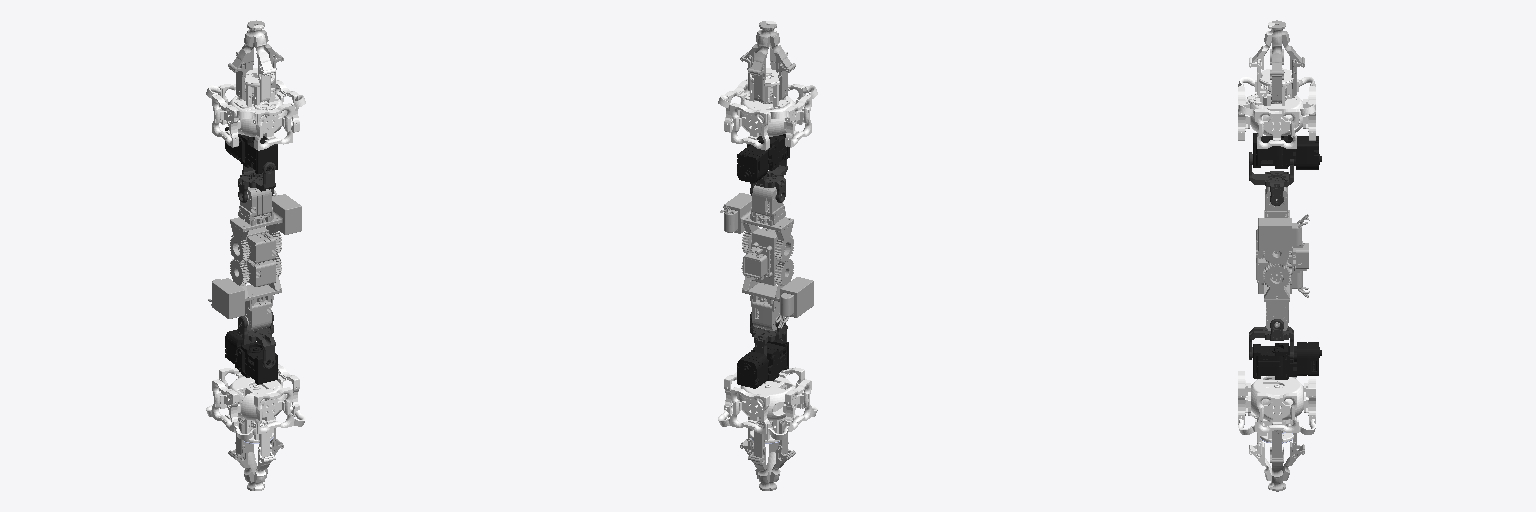
--- Render facts (derived) ---
3 views of the same robot in one strip: view 1: azimuth 30°, elevation 25°; view 2: azimuth 150°, elevation 25°; view 3: azimuth 270°, elevation 25° (orthographic).
Robot: griphis_xacro_stl — 31 links, 30 joints (18 continuous, 12 fixed); root link gripper-cp1; default pose: every joint at zero.
Visible links, largest first — view 1: mid_pitch_1_link, mid_pitch_2_link, roll_2_link, yaw_2_link, base_link, roll_1_link, nailring1-cp3, nailring2-cp3, yaw_1_link, pitch_2_link, nailring1-cp4, nailring2-cp2 (+5 smaller); view 2: mid_pitch_1_link, mid_pitch_2_link, yaw_2_link, yaw_1_link, roll_2_link, base_link, roll_1_link, nailring2-cp1, nailring1-cp1, nailring2-cp2, nailring1-cp4, nail3_1_link (+5 smaller); view 3: mid_pitch_1_link, yaw_2_link, mid_pitch_2_link, yaw_1_link, roll_2_link, roll_1_link, nailring2-cp4, nailring1-cp2, pitch_1_link, base_link, nail4_1_link, pitch_2_link (+3 smaller).
Boxes of the visible links, x1,y1,x2,y2 form: mid_pitch_1_link: (230, 187, 301, 262); mid_pitch_2_link: (208, 253, 281, 330); roll_2_link: (206, 377, 305, 439); yaw_2_link: (225, 329, 277, 384); base_link: (231, 227, 275, 286); roll_1_link: (206, 80, 305, 136); nailring1-cp3: (254, 103, 292, 150); nailring2-cp3: (254, 387, 292, 434); yaw_1_link: (225, 127, 277, 173); pitch_2_link: (238, 312, 275, 368); nailring1-cp4: (212, 95, 240, 147); nailring2-cp2: (212, 379, 239, 431); mid_pitch_1_link: (720, 185, 793, 262); mid_pitch_2_link: (741, 253, 813, 330); yaw_2_link: (737, 340, 788, 388); yaw_1_link: (737, 134, 789, 182); roll_2_link: (718, 376, 817, 439); base_link: (743, 228, 778, 285); roll_1_link: (718, 77, 817, 136); nailring2-cp1: (731, 387, 769, 434); nailring1-cp1: (731, 103, 769, 150); nailring2-cp2: (783, 379, 811, 431); nailring1-cp4: (784, 95, 811, 147); nail3_1_link: (748, 25, 769, 102); mid_pitch_1_link: (1258, 187, 1309, 265); yaw_2_link: (1253, 342, 1321, 379); mid_pitch_2_link: (1258, 263, 1309, 330); yaw_1_link: (1253, 133, 1321, 169); roll_2_link: (1238, 376, 1315, 434); roll_1_link: (1238, 77, 1315, 135); nailring2-cp4: (1257, 393, 1296, 432); nailring1-cp2: (1257, 109, 1296, 148); pitch_1_link: (1249, 152, 1293, 205); base_link: (1256, 229, 1308, 282); nail4_1_link: (1270, 25, 1283, 101); pitch_2_link: (1249, 319, 1293, 359).
Bounding box of the posed robot: 0.096 × 0.0954 × 0.5796 m (x, y, z).
31 mesh visuals loaded from 31 distinct referenced files (31 binary STL).

URDF robot description (griphis_xacro_stl):
<?xml version="1.0" ?>
<robot name="griphis_xacro_stl">
  <link name="base_link">
    <inertial>
      <origin xyz="-0.00010264257406678 3.31727350517397E-05 -0.00495518296571391" rpy="0 0 0"/>
      <mass value="0.0797462541060097"/>
      <inertia ixx="8.57012114371153E-06" ixy="1.08293491537705E-08" ixz="-5.94275788505759E-09" iyy="1.05158543807875E-05" iyz="1.10583333432373E-08" izz="1.08869595154247E-05"/>
    </inertial>
    <visual>
      <origin xyz="-0.0148999999999995 0.0176000000000318 0.0109999999999849" rpy="0.0 -0.0 0.0"/>
      <geometry>
        <mesh filename="package://griphis_xacro_stl/meshes/base_link.STL"/>
      </geometry>
      <material name="">
        <color rgba="0.752941176470588 0.752941176470588 0.752941176470588 1"/>
      </material>
    </visual>
    <collision>
      <origin xyz="-0.0148999999999995 0.0176000000000318 0.0109999999999849" rpy="0.0 -0.0 0.0"/>
      <geometry>
        <mesh filename="package://griphis_xacro_stl/meshes/base_link.STL"/>
      </geometry>
    </collision>
  </link>
  <link name="mid_pitch_1_link">
    <inertial>
      <origin xyz="0.0327517154872403 0.0322634011493343 0.000309410745622088" rpy="0 0 0"/>
      <mass value="0.0769353285466722"/>
      <inertia ixx="1.72122749770761E-05" ixy="1.01496940835006E-08" ixz="-9.64331189423188E-08" iyy="1.36641198773196E-05" iyz="5.60814889063421E-07" izz="1.63211688368785E-05"/>
    </inertial>
    <visual>
      <origin xyz="-0.0640000000000069 -0.0350999999999983 -0.0" rpy="0.0 -0.0 0.0"/>
      <geometry>
        <mesh filename="package://griphis_xacro_stl/meshes/mid_pitch_1_link.STL"/>
      </geometry>
      <material name="">
        <color rgba="0.752941176470588 0.752941176470588 0.752941176470588 1"/>
      </material>
    </visual>
    <collision>
      <origin xyz="-0.0640000000000069 -0.0350999999999983 -0.0" rpy="0.0 -0.0 0.0"/>
      <geometry>
        <mesh filename="package://griphis_xacro_stl/meshes/mid_pitch_1_link.STL"/>
      </geometry>
    </collision>
  </link>
  <joint name="mid_pitch_1" type="continuous">
    <origin xyz="-0.0640000000000069 -0.0350999999999983 -0.0" rpy="0.0 -0.0 0.0"/>
    <parent link="mid_pitch_1_link"/>
    <child link="base_link"/>
    <axis xyz="-0.0 -1.0 -0.0"/>
    <limit effort="3" velocity="10"/>
  </joint>
  <link name="pitch_1_link">
    <inertial>
      <origin xyz="0.0191893034316777 -0.017231596070573 -0.00342856576321433" rpy="0 0 0"/>
      <mass value="0.0105178263834885"/>
      <inertia ixx="5.84801171286377E-07" ixy="3.57321505354626E-09" ixz="8.8152444778668E-08" iyy="1.04603360596441E-06" iyz="-1.51990885783075E-13" izz="9.82964870358909E-07"/>
    </inertial>
    <visual>
      <origin xyz="-0.0420000000000015 0.0175000000000007 -0.0174999999999981" rpy="0.0 -0.0 0.0"/>
      <geometry>
        <mesh filename="package://griphis_xacro_stl/meshes/pitch_1_link.STL"/>
      </geometry>
      <material name="">
        <color rgba="0.298039215686275 0.298039215686275 0.298039215686275 1"/>
      </material>
    </visual>
    <collision>
      <origin xyz="-0.0420000000000015 0.0175000000000007 -0.0174999999999981" rpy="0.0 -0.0 0.0"/>
      <geometry>
        <mesh filename="package://griphis_xacro_stl/meshes/pitch_1_link.STL"/>
      </geometry>
    </collision>
  </link>
  <joint name="pitch_1" type="continuous">
    <origin xyz="-0.0420000000000015 0.0175000000000007 -0.0174999999999981" rpy="0.0 -0.0 0.0"/>
    <parent link="pitch_1_link"/>
    <child link="mid_pitch_1_link"/>
    <axis xyz="-0.0 -1.0 -0.0"/>
    <limit effort="3" velocity="10"/>
  </joint>
  <link name="yaw_1_link">
    <inertial>
      <origin xyz="0.00934924439107056 -1.17000596711048E-10 -0.0065657034112081" rpy="0 0 0"/>
      <mass value="0.0544535701857151"/>
      <inertia ixx="6.16082295678474E-06" ixy="-1.48642619322733E-08" ixz="3.66332313625793E-08" iyy="7.36782974228272E-06" iyz="-1.48634431569832E-08" izz="7.24406343523596E-06"/>
    </inertial>
    <visual>
      <origin xyz="-0.0279999999999981 -0.0 0.0175000000000002" rpy="0.0 -0.0 0.0"/>
      <geometry>
        <mesh filename="package://griphis_xacro_stl/meshes/yaw_1_link.STL"/>
      </geometry>
      <material name="">
        <color rgba="0.180392156862745 0.180392156862745 0.180392156862745 1"/>
      </material>
    </visual>
    <collision>
      <origin xyz="-0.0279999999999981 -0.0 0.0175000000000002" rpy="0.0 -0.0 0.0"/>
      <geometry>
        <mesh filename="package://griphis_xacro_stl/meshes/yaw_1_link.STL"/>
      </geometry>
    </collision>
  </link>
  <joint name="yaw_1" type="continuous">
    <origin xyz="-0.0279999999999981 -0.0 0.0175000000000002" rpy="0.0 -0.0 0.0"/>
    <parent link="yaw_1_link"/>
    <child link="pitch_1_link"/>
    <axis xyz="-0.0 -0.0 1.0"/>
    <limit effort="3" velocity="10"/>
  </joint>
  <link name="roll_1_link">
    <inertial>
      <origin xyz="0.0304847934275313 -0.000533683595524997 -0.000138763582684304" rpy="0 0 0"/>
      <mass value="0.0617238803473503"/>
      <inertia ixx="1.72112591146286E-05" ixy="-2.34655399562005E-07" ixz="1.72186999812855E-07" iyy="1.09105230206178E-05" iyz="3.90599560040266E-08" izz="1.62402505711448E-05"/>
    </inertial>
    <visual>
      <origin xyz="-0.00031819805152675406 0.000318198051528346 -0.0766999999999999" rpy="0.0 -1.5707963267948966 -1.5707963267948966"/>
      <geometry>
        <mesh filename="package://griphis_xacro_stl/meshes/roll_1_link.STL"/>
      </geometry>
      <material name="">
        <color rgba="1 1 1 1"/>
      </material>
    </visual>
    <collision>
      <origin xyz="-0.00031819805152675406 0.000318198051528346 -0.0766999999999999" rpy="0.0 -1.5707963267948966 -1.5707963267948966"/>
      <geometry>
        <mesh filename="package://griphis_xacro_stl/meshes/roll_1_link.STL"/>
      </geometry>
    </collision>
  </link>
  <joint name="roll_1" type="continuous">
    <origin xyz="-0.00031819805152675406 0.000318198051528346 -0.0766999999999999" rpy="0.0 -1.5707963267948966 -1.5707963267948966"/>
    <parent link="roll_1_link"/>
    <child link="yaw_1_link"/>
    <axis xyz="1.0 -0.0 -0.0"/>
    <limit effort="3" velocity="10"/>
  </joint>
  <link name="worm_1_link">
    <inertial>
      <origin xyz="0.00680389923417661 1.29536242400655E-05 5.52986221441856E-05" rpy="0 0 0"/>
      <mass value="0.00387257618784269"/>
      <inertia ixx="2.06264558567859E-07" ixy="1.13917098659222E-09" ixz="-8.28881114232565E-10" iyy="1.7113732321225E-07" iyz="4.18404893657738E-11" izz="1.71297030362022E-07"/>
    </inertial>
    <visual>
      <origin xyz="0 0 0" rpy="0 0 0"/>
      <geometry>
        <mesh filename="package://griphis_xacro_stl/meshes/worm_1_link.STL"/>
      </geometry>
      <material name="">
        <color rgba="0.752941176470588 0.752941176470588 0.752941176470588 1"/>
      </material>
    </visual>
    <collision>
      <origin xyz="0 0 0" rpy="0 0 0"/>
      <geometry>
        <mesh filename="package://griphis_xacro_stl/meshes/worm_1_link.STL"/>
      </geometry>
    </collision>
  </link>
  <joint name="worm_rotate_1" type="continuous">
    <origin xyz="-0.00031819805152675406 0.00031819805152833553 -0.02969999999999999" rpy="-1.5707963267948963 -1.5707963267948966 0.0"/>
    <parent link="roll_1_link"/>
    <child link="worm_1_link"/>
    <axis xyz="1 0 0"/>
    <limit effort="15" velocity="10"/>
  </joint>
  <link name="nail1_1_link">
    <inertial>
      <origin xyz="0.0375115559402243 -4.52381021421033E-05 0.000927613439051046" rpy="0 0 0"/>
      <mass value="0.00785451508753953"/>
      <inertia ixx="3.26792929870295E-07" ixy="2.23311778369799E-10" ixz="3.04391588566406E-07" iyy="1.76174668735888E-06" iyz="-8.7203716693621E-12" izz="1.60467609944965E-06"/>
    </inertial>
    <visual>
      <origin xyz="0 0 0" rpy="0 0 0"/>
      <geometry>
        <mesh filename="package://griphis_xacro_stl/meshes/nail1_1_link.STL"/>
      </geometry>
      <material name="">
        <color rgba="1 1 1 1"/>
      </material>
    </visual>
    <collision>
      <origin xyz="0 0 0" rpy="0 0 0"/>
      <geometry>
        <mesh filename="package://griphis_xacro_stl/meshes/nail1_1_link.STL"/>
      </geometry>
    </collision>
  </link>
  <joint name="nail1_rotate_1" type="continuous">
    <origin xyz="-0.00031819805152675075 -0.014681801948467067 -0.019699999999999995" rpy="1.5707963267948433 -1.5707963267948966 0.0"/>
    <parent link="roll_1_link"/>
    <child link="nail1_1_link"/>
    <axis xyz="0 -1 0"/>
    <mimic joint="worm_rotate_1" multiplier="0.091" offset="0"/>
  </joint>
  <link name="nail2_1_link">
    <inertial>
      <origin xyz="0.0375922338704431 -0.000920668174592305 -5.01249966510589E-05" rpy="0 0 0"/>
      <mass value="0.00783920613274618"/>
      <inertia ixx="3.26764420600123E-07" ixy="-3.04083796030301E-07" ixz="3.01596352148099E-10" iyy="1.60307023285989E-06" iyz="-3.50228545349602E-11" izz="1.7600802033745E-06"/>
    </inertial>
    <visual>
      <origin xyz="0 0 0" rpy="0 0 0"/>
      <geometry>
        <mesh filename="package://griphis_xacro_stl/meshes/nail2_1_link.STL"/>
      </geometry>
      <material name="">
        <color rgba="0.752941176470588 0.752941176470588 0.752941176470588 1"/>
      </material>
    </visual>
    <collision>
      <origin xyz="0 0 0" rpy="0 0 0"/>
      <geometry>
        <mesh filename="package://griphis_xacro_stl/meshes/nail2_1_link.STL"/>
      </geometry>
    </collision>
  </link>
  <joint name="nail2_rotate_1" type="continuous">
    <origin xyz="-0.015318198051535455 0.00031819805152833 -0.019699999999999995" rpy="-1.5707963267948963 -1.5707963267948966 0.0"/>
    <parent link="roll_1_link"/>
    <child link="nail2_1_link"/>
    <axis xyz="0 0 -1"/>
    <mimic joint="worm_rotate_1" multiplier="0.091" offset="0"/>
  </joint>
  <link name="nail3_1_link">
    <inertial>
      <origin xyz="0.0376633576375596 -4.50239708446043E-05 0.000912382199221681" rpy="0 0 0"/>
      <mass value="0.00782164323980883"/>
      <inertia ixx="3.26387568167113E-07" ixy="1.94469452026803E-10" ixz="3.03929104031752E-07" iyy="1.75640452707706E-06" iyz="-1.77166863072923E-11" izz="1.59916689354216E-06"/>
    </inertial>
    <visual>
      <origin xyz="0 0 0" rpy="0 0 0"/>
      <geometry>
        <mesh filename="package://griphis_xacro_stl/meshes/nail3_1_link.STL"/>
      </geometry>
      <material name="">
        <color rgba="0.752941176470588 0.752941176470588 0.752941176470588 1"/>
      </material>
    </visual>
    <collision>
      <origin xyz="0 0 0" rpy="0 0 0"/>
      <geometry>
        <mesh filename="package://griphis_xacro_stl/meshes/nail3_1_link.STL"/>
      </geometry>
    </collision>
  </link>
  <joint name="nail3_rotate_1" type="continuous">
    <origin xyz="-0.00031819805152675737 0.015318198051532934 -0.019700000000000092" rpy="-1.5707963267948963 -1.5707963267948966 0.0"/>
    <parent link="roll_1_link"/>
    <child link="nail3_1_link"/>
    <axis xyz="0 -1 0"/>
    <mimic joint="worm_rotate_1" multiplier="0.091" offset="0"/>
  </joint>
  <link name="nail4_1_link">
    <inertial>
      <origin xyz="0.0376199045292883 0.000916237603659741 4.27065705779009E-05" rpy="0 0 0"/>
      <mass value="0.00783130292561273"/>
      <inertia ixx="3.26490723468266E-07" ixy="3.0398859313737E-07" ixz="-4.37077734142467E-10" iyy="1.60061195688429E-06" iyz="2.94387193060157E-11" izz="1.75778452318195E-06"/>
    </inertial>
    <visual>
      <origin xyz="0 0 0" rpy="0 0 0"/>
      <geometry>
        <mesh filename="package://griphis_xacro_stl/meshes/nail4_1_link.STL"/>
      </geometry>
      <material name="">
        <color rgba="0.752941176470588 0.752941176470588 0.752941176470588 1"/>
      </material>
    </visual>
    <collision>
      <origin xyz="0 0 0" rpy="0 0 0"/>
      <geometry>
        <mesh filename="package://griphis_xacro_stl/meshes/nail4_1_link.STL"/>
      </geometry>
    </collision>
  </link>
  <joint name="nail4_rotate_1" type="continuous">
    <origin xyz="0.014681801948464546 0.00031819805152833667 -0.019699999999999995" rpy="-1.5707963267948963 -1.5707963267948966 0.0"/>
    <parent link="roll_1_link"/>
    <child link="nail4_1_link"/>
    <axis xyz="0 0 1"/>
    <mimic joint="worm_rotate_1" multiplier="0.091" offset="0"/>
  </joint>
  <link name="nail-cp1">
    <inertial>
      <origin xyz="-2.058274506931E-05 -0.000405813357968389 -0.0658092329631552" rpy="0 0 0"/>
      <mass value="0.0011585387013778"/>
      <inertia ixx="1.05682260080874E-07" ixy="-1.5764583148915E-09" ixz="-7.53303890952621E-11" iyy="1.05682260080874E-07" iyz="7.53303890952626E-11" izz="2.1081276337663E-07"/>
    </inertial>
    <visual>
      <origin xyz="0 0 0" rpy="0 0 0"/>
      <geometry>
        <mesh filename="package://griphis_xacro_stl/meshes/nail-cp1.STL"/>
      </geometry>
      <material name="">
        <color rgba="1 1 1 1"/>
      </material>
    </visual>
    <collision>
      <origin xyz="0 0 0" rpy="0 0 0"/>
      <geometry>
        <mesh filename="package://griphis_xacro_stl/meshes/nail-cp1.STL"/>
      </geometry>
    </collision>
  </link>
  <joint name="nail-cp1" type="fixed">
    <origin xyz="-0.000636396103034807 0.00020999999999474846 0.0650000000000001" rpy="6.4948046940571666e-15 3.774758283725532e-15 -3.141592653589793"/>
    <parent link="roll_1_link"/>
    <child link="nail-cp1"/>
    <axis xyz="0 0 0"/>
  </joint>
  <link name="gripper-cp1">
    <inertial>
      <origin xyz="-0.000249014516100668 -0.00102239026541428 -0.0133818116212472" rpy="0 0 0"/>
      <mass value="0.0105278029927928"/>
      <inertia ixx="2.49426973639437E-06" ixy="-4.53009756265879E-08" ixz="6.75736959711176E-08" iyy="2.70040122944883E-06" iyz="-2.88247256637324E-07" izz="2.67368335360225E-06"/>
    </inertial>
    <visual>
      <origin xyz="0 0 0" rpy="0 0 0"/>
      <geometry>
        <mesh filename="package://griphis_xacro_stl/meshes/gripper-cp1.STL"/>
      </geometry>
      <material name="">
        <color rgba="1 1 1 1"/>
      </material>
    </visual>
    <collision>
      <origin xyz="0 0 0" rpy="0 0 0"/>
      <geometry>
        <mesh filename="package://griphis_xacro_stl/meshes/gripper-cp1.STL"/>
      </geometry>
    </collision>
  </link>
  <joint name="gripper-cp1" type="fixed">
    <origin xyz="0 0 0" rpy="0 0 0"/>
    <parent link="gripper-cp1"/>
    <child link="roll_1_link"/>
    <axis xyz="-0.0 -0.0 -0.0"/>
  </joint>
  <link name="nailring1-cp1">
    <inertial>
      <origin xyz="0.000495209639942942 -2.15213012098869E-07 -0.00500225533856013" rpy="0 0 0"/>
      <mass value="0.00888435164177016"/>
      <inertia ixx="1.85848970375133E-06" ixy="4.08320407087235E-11" ixz="9.14133574374128E-10" iyy="1.88948158451332E-06" iyz="-1.8157617423749E-12" izz="3.47494887160992E-06"/>
    </inertial>
    <visual>
      <origin xyz="0 0 0" rpy="0 0 0"/>
      <geometry>
        <mesh filename="package://griphis_xacro_stl/meshes/nailring1-cp1.STL"/>
      </geometry>
      <material name="">
        <color rgba="1 1 1 1"/>
      </material>
    </visual>
    <collision>
      <origin xyz="0 0 0" rpy="0 0 0"/>
      <geometry>
        <mesh filename="package://griphis_xacro_stl/meshes/nailring1-cp1.STL"/>
      </geometry>
    </collision>
  </link>
  <joint name="nailring1-cp1" type="fixed">
    <origin xyz="-0.0003181980515267614 0.033318198051532834 -0.048100053496672186" rpy="1.5707963267948433 -1.5707963267948966 0.0"/>
    <parent link="roll_1_link"/>
    <child link="nailring1-cp1"/>
    <axis xyz="0 0 0"/>
  </joint>
  <link name="nailring1-cp2">
    <inertial>
      <origin xyz="0.000495209639943192 -2.15213011856008E-07 -0.00500225533855998" rpy="0 0 0"/>
      <mass value="0.00888435164177017"/>
      <inertia ixx="1.85848970375133E-06" ixy="4.08320407083519E-11" ixz="9.1413357437371E-10" iyy="1.88948158451332E-06" iyz="-1.81576174254404E-12" izz="3.47494887160992E-06"/>
    </inertial>
    <visual>
      <origin xyz="0 0 0" rpy="0 0 0"/>
      <geometry>
        <mesh filename="package://griphis_xacro_stl/meshes/nailring1-cp2.STL"/>
      </geometry>
      <material name="">
        <color rgba="1 1 1 1"/>
      </material>
    </visual>
    <collision>
      <origin xyz="0 0 0" rpy="0 0 0"/>
      <geometry>
        <mesh filename="package://griphis_xacro_stl/meshes/nailring1-cp2.STL"/>
      </geometry>
    </collision>
  </link>
  <joint name="nailring1-cp2" type="fixed">
    <origin xyz="0.03268180194846475 0.00031819805152834697 -0.048100053496672394" rpy="-5.645484080218921e-14 -1.5707963057214722 0.0"/>
    <parent link="roll_1_link"/>
    <child link="nailring1-cp2"/>
    <axis xyz="0 0 0"/>
  </joint>
  <link name="nailring1-cp3">
    <inertial>
      <origin xyz="-0.000495209639943185 2.1521301184213E-07 -0.00500225533856018" rpy="0 0 0"/>
      <mass value="0.00888435164177015"/>
      <inertia ixx="1.85848970375133E-06" ixy="4.08320407089207E-11" ixz="-9.14133574373382E-10" iyy="1.88948158451332E-06" iyz="1.81576174213503E-12" izz="3.47494887160991E-06"/>
    </inertial>
    <visual>
      <origin xyz="0 0 0" rpy="0 0 0"/>
      <geometry>
        <mesh filename="package://griphis_xacro_stl/meshes/nailring1-cp3.STL"/>
      </geometry>
      <material name="">
        <color rgba="1 1 1 1"/>
      </material>
    </visual>
    <collision>
      <origin xyz="0 0 0" rpy="0 0 0"/>
      <geometry>
        <mesh filename="package://griphis_xacro_stl/meshes/nailring1-cp3.STL"/>
      </geometry>
    </collision>
  </link>
  <joint name="nailring1-cp3" type="fixed">
    <origin xyz="-0.00031819805152674674 -0.03268180194846797 -0.0482999465033276" rpy="-1.5707963267948963 -1.5707963267948966 0.0"/>
    <parent link="roll_1_link"/>
    <child link="nailring1-cp3"/>
    <axis xyz="0 0 0"/>
  </joint>
  <link name="nailring1-cp4">
    <inertial>
      <origin xyz="-0.000495209639943033 2.15213012022542E-07 -0.00500225533856014" rpy="0 0 0"/>
      <mass value="0.00888435164177017"/>
      <inertia ixx="1.85848970375133E-06" ixy="4.08320407090649E-11" ixz="-9.14133574373576E-10" iyy="1.88948158451332E-06" iyz="1.81576174274984E-12" izz="3.47494887160992E-06"/>
    </inertial>
    <visual>
      <origin xyz="0 0 0" rpy="0 0 0"/>
      <geometry>
        <mesh filename="package://griphis_xacro_stl/meshes/nailring1-cp4.STL"/>
      </geometry>
      <material name="">
        <color rgba="1 1 1 1"/>
      </material>
    </visual>
    <collision>
      <origin xyz="0 0 0" rpy="0 0 0"/>
      <geometry>
        <mesh filename="package://griphis_xacro_stl/meshes/nailring1-cp4.STL"/>
      </geometry>
    </collision>
  </link>
  <joint name="nailring1-cp4" type="fixed">
    <origin xyz="-0.03331819805153535 0.00031819805152833233 -0.048099946503327794" rpy="3.14159265358973 -1.5707963057214722 0.0"/>
    <parent link="roll_1_link"/>
    <child link="nailring1-cp4"/>
    <axis xyz="0 0 0"/>
  </joint>
  <link name="mid_pitch_2_link">
    <inertial>
      <origin xyz="-0.0327473641033502 -0.0322605669359661 0.000309352298986196" rpy="0 0 0"/>
      <mass value="0.0769502016363242"/>
      <inertia ixx="1.72130959551283E-05" ixy="1.01485711646082E-08" ixz="9.64338520342348E-08" iyy="1.36643051799986E-05" iyz="-5.60812725052765E-07" izz="1.63206675803235E-05"/>
    </inertial>
    <visual>
      <origin xyz="0 0 0" rpy="0 0 0"/>
      <geometry>
        <mesh filename="package://griphis_xacro_stl/meshes/mid_pitch_2_link.STL"/>
      </geometry>
      <material name="">
        <color rgba="0.752941176470588 0.752941176470588 0.752941176470588 1"/>
      </material>
    </visual>
    <collision>
      <origin xyz="0 0 0" rpy="0 0 0"/>
      <geometry>
        <mesh filename="package://griphis_xacro_stl/meshes/mid_pitch_2_link.STL"/>
      </geometry>
    </collision>
  </link>
  <joint name="mid_pitch_2" type="continuous">
    <origin xyz="-0.029900000000000003 0.0352000000000001 0.0002100000000035008" rpy="0.0 0.0 0.0"/>
    <parent link="base_link"/>
    <child link="mid_pitch_2_link"/>
    <axis xyz="0 -1 0"/>
    <limit effort="3" velocity="10"/>
    <mimic joint="mid_pitch_1" multiplier="1" offset="0"/>
  </joint>
  <link name="pitch_2_link">
    <inertial>
      <origin xyz="-0.0191893034316743 0.0172315960705706 -0.00342856576323701" rpy="0 0 0"/>
      <mass value="0.0105178263834885"/>
      <inertia ixx="5.84801171286379E-07" ixy="3.57321505353334E-09" ixz="-8.81524447786701E-08" iyy="1.04603360596441E-06" iyz="1.51990880905164E-13" izz="9.82964870358905E-07"/>
    </inertial>
    <visual>
      <origin xyz="0 0 0" rpy="0 0 0"/>
      <geometry>
        <mesh filename="package://griphis_xacro_stl/meshes/pitch_2_link.STL"/>
      </geometry>
      <material name="">
        <color rgba="0.298039215686275 0.298039215686275 0.298039215686275 1"/>
      </material>
    </visual>
    <collision>
      <origin xyz="0 0 0" rpy="0 0 0"/>
      <geometry>
        <mesh filename="package://griphis_xacro_stl/meshes/pitch_2_link.STL"/>
      </geometry>
    </collision>
  </link>
  <joint name="pitch_2" type="continuous">
    <origin xyz="-0.0640000000000067 -0.0350999999999972 0" rpy="0 0 0"/>
    <parent link="mid_pitch_2_link"/>
    <child link="pitch_2_link"/>
    <axis xyz="0 1 0"/>
    <limit effort="3" velocity="10"/>
  </joint>
  <link name="yaw_2_link">
    <inertial>
      <origin xyz="-0.00934924449476787 -1.20738749553873E-09 -0.00656570463247875" rpy="0 0 0"/>
      <mass value="0.0544536529144548"/>
      <inertia ixx="6.1608306877813E-06" ixy="-1.48630786812854E-08" ixz="-3.66333645918454E-08" iyy="7.36783210634451E-06" iyz="1.48635489875795E-08" izz="7.24407314817233E-06"/>
    </inertial>
    <visual>
      <origin xyz="0 0 0" rpy="0 0 0"/>
      <geometry>
        <mesh filename="package://griphis_xacro_stl/meshes/yaw_2_link.STL"/>
      </geometry>
      <material name="">
        <color rgba="0.180392156862745 0.180392156862745 0.180392156862745 1"/>
      </material>
    </visual>
    <collision>
      <origin xyz="0 0 0" rpy="0 0 0"/>
      <geometry>
        <mesh filename="package://griphis_xacro_stl/meshes/yaw_2_link.STL"/>
      </geometry>
    </collision>
  </link>
  <joint name="yaw_2" type="continuous">
    <origin xyz="-0.0419999999999942 0.0175000000000631 0.0174999999999867" rpy="0 0 0"/>
    <parent link="pitch_2_link"/>
    <child link="yaw_2_link"/>
    <axis xyz="0 0 -1"/>
    <limit effort="3" velocity="10"/>
  </joint>
  <link name="roll_2_link">
    <inertial>
      <origin xyz="-0.0304847934275298 0.000533683595516123 -0.000138763582688578" rpy="0 0 0"/>
      <mass value="0.0617238803473503"/>
      <inertia ixx="1.72112591146286E-05" ixy="-2.34655399562003E-07" ixz="-1.72186999812873E-07" iyy="1.09105230206178E-05" iyz="-3.90599560037894E-08" izz="1.62402505711448E-05"/>
    </inertial>
    <visual>
      <origin xyz="0 0 0" rpy="0 0 0"/>
      <geometry>
        <mesh filename="package://griphis_xacro_stl/meshes/roll_2_link.STL"/>
      </geometry>
      <material name="">
        <color rgba="1 1 1 1"/>
      </material>
    </visual>
    <collision>
      <origin xyz="0 0 0" rpy="0 0 0"/>
      <geometry>
        <mesh filename="package://griphis_xacro_stl/meshes/roll_2_link.STL"/>
      </geometry>
    </collision>
  </link>
  <joint name="roll_2" type="continuous">
    <origin xyz="-0.0280000000000042 0 -0.0175000000000007" rpy="0 0 0"/>
    <parent link="yaw_2_link"/>
    <child link="roll_2_link"/>
    <axis xyz="-1 0 0"/>
    <limit effort="3" velocity="10"/>
  </joint>
  <link name="worm_2_link">
    <inertial>
      <origin xyz="-0.00680389920380498 5.66707617536341E-05 3.76180533663562E-06" rpy="0 0 0"/>
      <mass value="0.00387257616321651"/>
      <inertia ixx="2.0626455720602E-07" ixy="6.3200237698076E-10" ixz="-1.25909856906162E-09" iyy="1.713062458146E-07" iyz="1.39152999506885E-11" izz="1.71128105557195E-07"/>
    </inertial>
    <visual>
      <origin xyz="0 0 0" rpy="0 0 0"/>
      <geometry>
        <mesh filename="package://griphis_xacro_stl/meshes/worm_2_link.STL"/>
      </geometry>
      <material name="">
        <color rgba="0.752941176470588 0.752941176470588 0.752941176470588 1"/>
      </material>
    </visual>
    <collision>
      <origin xyz="0 0 0" rpy="0 0 0"/>
      <geometry>
        <mesh filename="package://griphis_xacro_stl/meshes/worm_2_link.STL"/>
      </geometry>
    </collision>
  </link>
  <joint name="worm_rotate_2" type="continuous">
    <origin xyz="-0.0470000000000015 0 0" rpy="0 0 0"/>
    <parent link="roll_2_link"/>
    <child link="worm_2_link"/>
    <axis xyz="0.737216674660088 0 0.675656402769279"/>
    <limit effort="15" velocity="10"/>
  </joint>
  <link name="nail1_2_link">
    <inertial>
      <origin xyz="-0.0375115559402153 0.000154761897861344 -0.000927613439127735" rpy="0 0 0"/>
      <mass value="0.00785451508753956"/>
      <inertia ixx="3.26792929870324E-07" ixy="-2.23311778394515E-10" ixz="3.04391588566463E-07" iyy="1.76174668735889E-06" iyz="8.72037168507631E-12" izz="1.60467609944963E-06"/>
    </inertial>
    <visual>
      <origin xyz="0 0 0" rpy="0 0 0"/>
      <geometry>
        <mesh filename="package://griphis_xacro_stl/meshes/nail1_2_link.STL"/>
      </geometry>
      <material name="">
        <color rgba="1 1 1 1"/>
      </material>
    </visual>
    <collision>
      <origin xyz="0 0 0" rpy="0 0 0"/>
      <geometry>
        <mesh filename="package://griphis_xacro_stl/meshes/nail1_2_link.STL"/>
      </geometry>
    </collision>
  </link>
  <joint name="nail1_rotate_2" type="continuous">
    <origin xyz="-0.0570000000000014 0 -0.0149999999999872" rpy="0 0 0"/>
    <parent link="roll_2_link"/>
    <child link="nail1_2_link"/>
    <axis xyz="0 -1 0"/>
    <mimic joint="worm_rotate_2" multiplier="0.091" offset="0"/>
  </joint>
  <link name="nail2_2_link">
    <inertial>
      <origin xyz="-0.0375922338704413 0.000920668174601659 0.000149875003347476" rpy="0 0 0"/>
      <mass value="0.00783920613274653"/>
      <inertia ixx="3.26764420600132E-07" ixy="-3.0408379603033E-07" ixz="-3.01596352109658E-10" iyy="1.60307023286001E-06" iyz="3.50228545423785E-11" izz="1.76008020337463E-06"/>
    </inertial>
    <visual>
      <origin xyz="0 0 0" rpy="0 0 0"/>
      <geometry>
        <mesh filename="package://griphis_xacro_stl/meshes/nail2_2_link.STL"/>
      </geometry>
      <material name="">
        <color rgba="0.752941176470588 0.752941176470588 0.752941176470588 1"/>
      </material>
    </visual>
    <collision>
      <origin xyz="0 0 0" rpy="0 0 0"/>
      <geometry>
        <mesh filename="package://griphis_xacro_stl/meshes/nail2_2_link.STL"/>
      </geometry>
    </collision>
  </link>
  <joint name="nail2_rotate_2" type="continuous">
    <origin xyz="-0.0570000000000009 0.015 0" rpy="0 0 0"/>
    <parent link="roll_2_link"/>
    <child link="nail2_2_link"/>
    <axis xyz="0 0 -1"/>
    <mimic joint="worm_rotate_2" multiplier="0.091" offset="0"/>
  </joint>
  <link name="nail3_2_link">
    <inertial>
      <origin xyz="-0.0376633576375554 4.50239708458949E-05 0.000912382199144402" rpy="0 0 0"/>
      <mass value="0.00782164323980893"/>
      <inertia ixx="3.26387568167086E-07" ixy="1.94469452048084E-10" ixz="-3.03929104031706E-07" iyy="1.75640452707709E-06" iyz="1.77166863189614E-11" izz="1.59916689354222E-06"/>
    </inertial>
    <visual>
      <origin xyz="0 0 0" rpy="0 0 0"/>
      <geometry>
        <mesh filename="package://griphis_xacro_stl/meshes/nail3_2_link.STL"/>
      </geometry>
      <material name="">
        <color rgba="0.752941176470588 0.752941176470588 0.752941176470588 1"/>
      </material>
    </visual>
    <collision>
      <origin xyz="0 0 0" rpy="0 0 0"/>
      <geometry>
        <mesh filename="package://griphis_xacro_stl/meshes/nail3_2_link.STL"/>
      </geometry>
    </collision>
  </link>
  <joint name="nail3_rotate_2" type="continuous">
    <origin xyz="-0.0570000000000004 0 0.0150000000000128" rpy="0 0 0"/>
    <parent link="roll_2_link"/>
    <child link="nail3_2_link"/>
    <axis xyz="0 1 0"/>
    <mimic joint="worm_rotate_2" multiplier="0.091" offset="0"/>
  </joint>
  <link name="nail4_2_link">
    <inertial>
      <origin xyz="-0.0376199045292857 -0.000916237603655147 -0.000157293429422369" rpy="0 0 0"/>
      <mass value="0.00783130292561298"/>
      <inertia ixx="3.26490723468276E-07" ixy="3.03988593137378E-07" ixz="4.37077734057104E-10" iyy="1.60061195688436E-06" iyz="-2.94387192594929E-11" izz="1.75778452318202E-06"/>
    </inertial>
    <visual>
      <origin xyz="0 0 0" rpy="0 0 0"/>
      <geometry>
        <mesh filename="package://griphis_xacro_stl/meshes/nail4_2_link.STL"/>
      </geometry>
      <material name="">
        <color rgba="0.752941176470588 0.752941176470588 0.752941176470588 1"/>
      </material>
    </visual>
    <collision>
      <origin xyz="0 0 0" rpy="0 0 0"/>
      <geometry>
        <mesh filename="package://griphis_xacro_stl/meshes/nail4_2_link.STL"/>
      </geometry>
    </collision>
  </link>
  <joint name="nail4_rotate_2" type="continuous">
    <origin xyz="-0.0570000000000017 -0.0149999999999955 0" rpy="0 0 0"/>
    <parent link="roll_2_link"/>
    <child link="nail4_2_link"/>
    <axis xyz="0 0 1"/>
    <mimic joint="worm_rotate_2" multiplier="0.091" offset="0"/>
  </joint>
  <link name="nail-cp2">
    <inertial>
      <origin xyz="0.000615813357965365 -0.00061581335794697 -0.0658092329631574" rpy="0 0 0"/>
      <mass value="0.00115853870137781"/>
      <inertia ixx="1.05682260080874E-07" ixy="-1.5764583148907E-09" ixz="-7.53303890952508E-11" iyy="1.05682260080874E-07" iyz="7.53303890920378E-11" izz="2.10812763376632E-07"/>
    </inertial>
    <visual>
      <origin xyz="0 0 0" rpy="0 0 0"/>
      <geometry>
        <mesh filename="package://griphis_xacro_stl/meshes/nail-cp2.STL"/>
      </geometry>
      <material name="">
        <color rgba="0.796078431372549 0.823529411764706 0.937254901960784 1"/>
      </material>
    </visual>
    <collision>
      <origin xyz="0 0 0" rpy="0 0 0"/>
      <geometry>
        <mesh filename="package://griphis_xacro_stl/meshes/nail-cp2.STL"/>
      </geometry>
    </collision>
  </link>
  <joint name="nail-cp2" type="fixed">
    <origin xyz="-0.141700000000001 -0.000318198051535531 -0.00031819805151536" rpy="-1.5707963267949 0 1.5707963267949"/>
    <parent link="roll_2_link"/>
    <child link="nail-cp2"/>
    <axis xyz="0 0 0"/>
  </joint>
  <link name="gripper-cp2">
    <inertial>
      <origin xyz="0.000249014516096963 -0.00102239026539895 0.0133818116212488" rpy="0 0 0"/>
      <mass value="0.0105278029927927"/>
      <inertia ixx="2.49426973639434E-06" ixy="4.53009756265701E-08" ixz="6.75736959710746E-08" iyy="2.70040122944888E-06" iyz="2.88247256637327E-07" izz="2.67368335360219E-06"/>
    </inertial>
    <visual>
      <origin xyz="0 0 0" rpy="0 0 0"/>
      <geometry>
        <mesh filename="package://griphis_xacro_stl/meshes/gripper-cp2.STL"/>
      </geometry>
      <material name="">
        <color rgba="1 1 1 1"/>
      </material>
    </visual>
    <collision>
      <origin xyz="0 0 0" rpy="0 0 0"/>
      <geometry>
        <mesh filename="package://griphis_xacro_stl/meshes/gripper-cp2.STL"/>
      </geometry>
    </collision>
  </link>
  <joint name="gripper-cp2" type="fixed">
    <origin xyz="-0.0766999999999999 -0.000318198051539618 -0.000318198051517046" rpy="-1.57079632679485 0 -1.57079632679489"/>
    <parent link="roll_2_link"/>
    <child link="gripper-cp2"/>
    <axis xyz="0 0 0"/>
  </joint>
  <link name="nailring2-cp1">
    <inertial>
      <origin xyz="0.000495209639943872 -2.15213011231508E-07 -0.0050022553385601" rpy="0 0 0"/>
      <mass value="0.00888435164177013"/>
      <inertia ixx="1.85848970375132E-06" ixy="4.08320407075244E-11" ixz="9.14133574374455E-10" iyy="1.88948158451332E-06" iyz="-1.81576174187697E-12" izz="3.47494887160991E-06"/>
    </inertial>
    <visual>
      <origin xyz="0 0 0" rpy="0 0 0"/>
      <geometry>
        <mesh filename="package://griphis_xacro_stl/meshes/nailring2-cp1.STL"/>
      </geometry>
      <material name="">
        <color rgba="1 1 1 1"/>
      </material>
    </visual>
    <collision>
      <origin xyz="0 0 0" rpy="0 0 0"/>
      <geometry>
        <mesh filename="package://griphis_xacro_stl/meshes/nailring2-cp1.STL"/>
      </geometry>
    </collision>
  </link>
  <joint name="nailring2-cp1" type="fixed">
    <origin xyz="-0.0285999465033246 0 0.0330000000000001" rpy="3.14159265358978 0 -3.14159238847494"/>
    <parent link="roll_2_link"/>
    <child link="nailring2-cp1"/>
    <axis xyz="0 0 0"/>
  </joint>
  <link name="nailring2-cp2">
    <inertial>
      <origin xyz="0.000495209639942984 -2.15213012050297E-07 -0.00500225533856015" rpy="0 0 0"/>
      <mass value="0.00888435164177019"/>
      <inertia ixx="1.85848970375134E-06" ixy="4.08320407074391E-11" ixz="9.14133574373919E-10" iyy="1.88948158451332E-06" iyz="-1.81576174216739E-12" izz="3.47494887160993E-06"/>
    </inertial>
    <visual>
      <origin xyz="0 0 0" rpy="0 0 0"/>
      <geometry>
        <mesh filename="package://griphis_xacro_stl/meshes/nailring2-cp2.STL"/>
      </geometry>
      <material name="">
        <color rgba="1 1 1 1"/>
      </material>
    </visual>
    <collision>
      <origin xyz="0 0 0" rpy="0 0 0"/>
      <geometry>
        <mesh filename="package://griphis_xacro_stl/meshes/nailring2-cp2.STL"/>
      </geometry>
    </collision>
  </link>
  <joint name="nailring2-cp2" type="fixed">
    <origin xyz="-0.0285999465033264 -0.0330000000000002 0" rpy="1.57079632679488 0 3.14159265358979"/>
    <parent link="roll_2_link"/>
    <child link="nailring2-cp2"/>
    <axis xyz="0 0 0"/>
  </joint>
  <link name="nailring2-cp3">
    <inertial>
      <origin xyz="-0.000495209639942817 2.15213012078053E-07 -0.00500225533856008" rpy="0 0 0"/>
      <mass value="0.00888435164177013"/>
      <inertia ixx="1.85848970375132E-06" ixy="4.08320407098813E-11" ixz="-9.14133574373917E-10" iyy="1.88948158451331E-06" iyz="1.81576173997682E-12" izz="3.4749488716099E-06"/>
    </inertial>
    <visual>
      <origin xyz="0 0 0" rpy="0 0 0"/>
      <geometry>
        <mesh filename="package://griphis_xacro_stl/meshes/nailring2-cp3.STL"/>
      </geometry>
      <material name="">
        <color rgba="1 1 1 1"/>
      </material>
    </visual>
    <collision>
      <origin xyz="0 0 0" rpy="0 0 0"/>
      <geometry>
        <mesh filename="package://griphis_xacro_stl/meshes/nailring2-cp3.STL"/>
      </geometry>
    </collision>
  </link>
  <joint name="nailring2-cp3" type="fixed">
    <origin xyz="-0.0284000534966716 0 -0.0330000000000008" rpy="0 0 3.14159238847493"/>
    <parent link="roll_2_link"/>
    <child link="nailring2-cp3"/>
    <axis xyz="0 0 0"/>
  </joint>
  <link name="nailring2-cp4">
    <inertial>
      <origin xyz="-0.000495209639943039 2.15213012015603E-07 -0.00500225533856" rpy="0 0 0"/>
      <mass value="0.00888435164177014"/>
      <inertia ixx="1.85848970375133E-06" ixy="4.08320407107192E-11" ixz="-9.14133574373996E-10" iyy="1.88948158451331E-06" iyz="1.81576174170535E-12" izz="3.47494887160991E-06"/>
    </inertial>
    <visual>
      <origin xyz="0 0 0" rpy="0 0 0"/>
      <geometry>
        <mesh filename="package://griphis_xacro_stl/meshes/nailring2-cp4.STL"/>
      </geometry>
      <material name="">
        <color rgba="1 1 1 1"/>
      </material>
    </visual>
    <collision>
      <origin xyz="0 0 0" rpy="0 0 0"/>
      <geometry>
        <mesh filename="package://griphis_xacro_stl/meshes/nailring2-cp4.STL"/>
      </geometry>
    </collision>
  </link>
  <joint name="nailring2-cp4" type="fixed">
    <origin xyz="-0.0286000534966706 0.0329999999999998 0" rpy="-1.57079632679492 0 3.14159265358979"/>
    <parent link="roll_2_link"/>
    <child link="nailring2-cp4"/>
    <axis xyz="0 0 0"/>
  </joint>
</robot>
